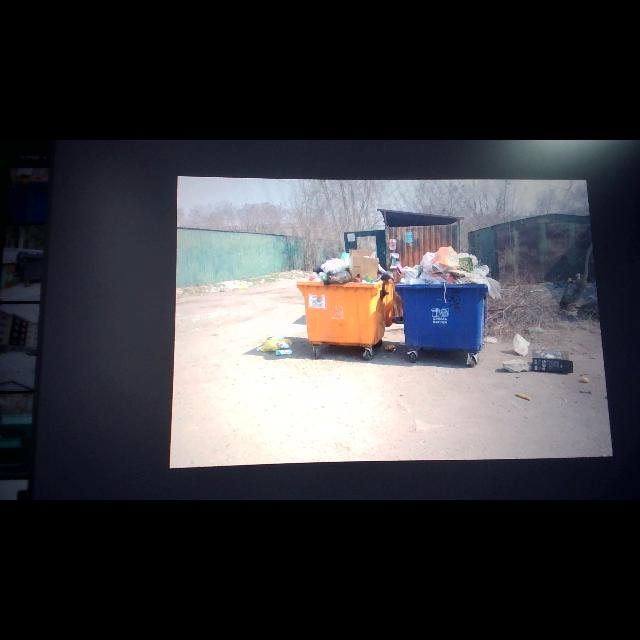Trash_Can_Full: (395, 246, 489, 352), (297, 249, 387, 346)
